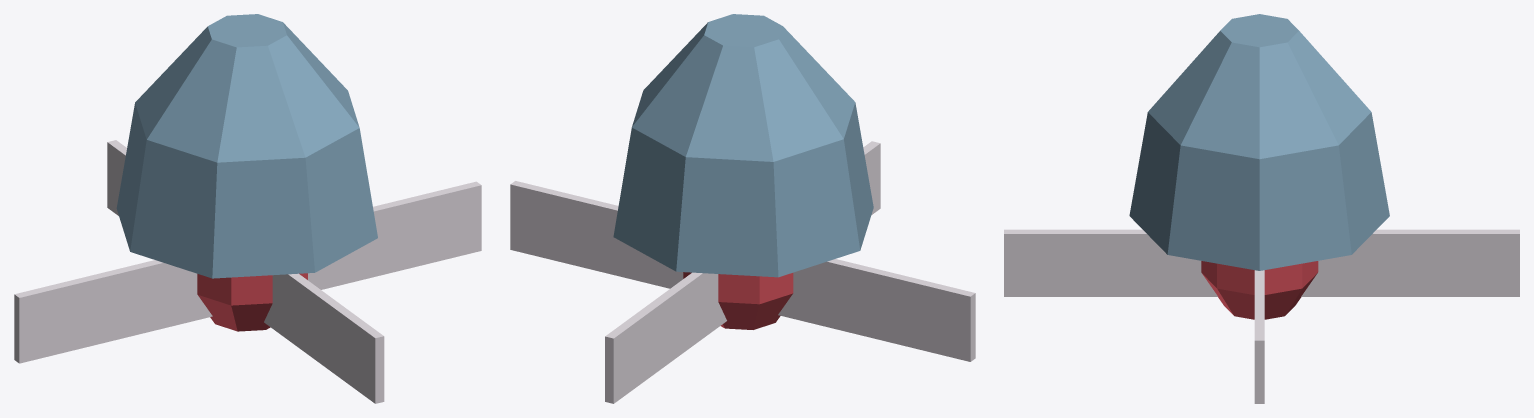
Rendered from lvl0.fbx.
3 views of the same model, side by side, from view 1: azimuth 30°, elevation 25°; view 2: azimuth 150°, elevation 25°; view 3: azimuth 270°, elevation 25° (orthographic). The views are drawn at different scales.
Parts seen in each view (by area): view 1: Cylinder; view 2: Cylinder; view 3: Cylinder.
Boxes of the visible parts, x1,y1,x2,y2 form: Cylinder: [14, 14, 481, 403]; Cylinder: [510, 14, 975, 403]; Cylinder: [1004, 14, 1519, 403].
Size of the model in its own units: 1.97 by 1.16 by 1.98.
